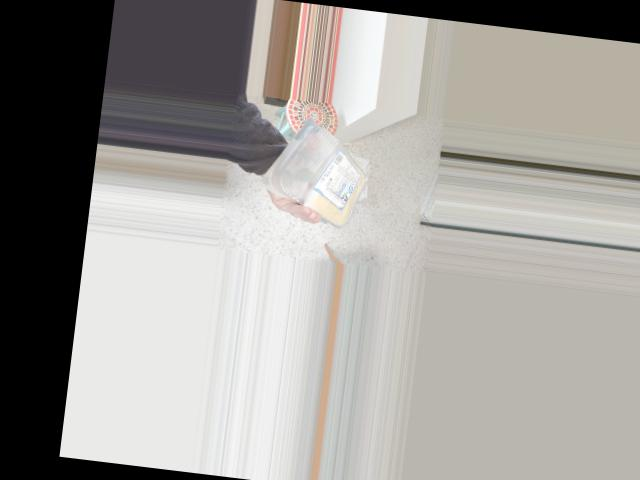cheese: (265, 113, 382, 218)
